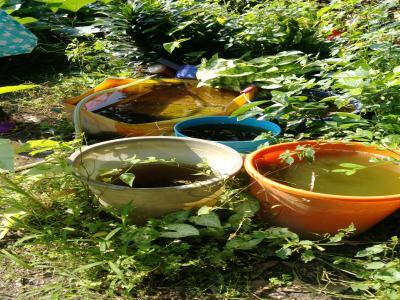bowl: (243, 140, 400, 243), (65, 133, 242, 223), (57, 75, 255, 136)
